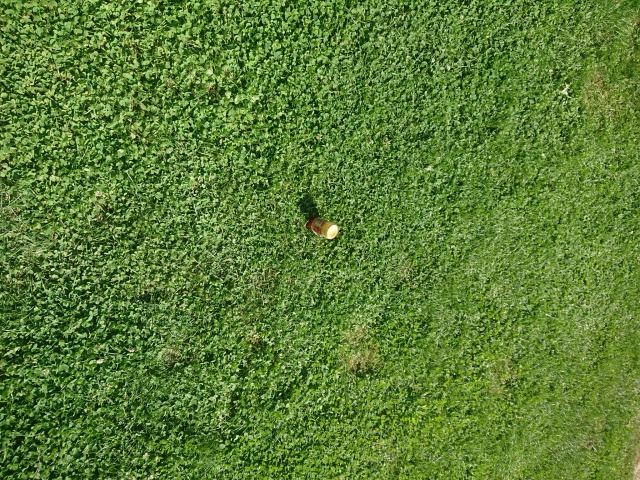Kotanyi Curry Spices Mix 70g: (304, 215, 340, 240)
